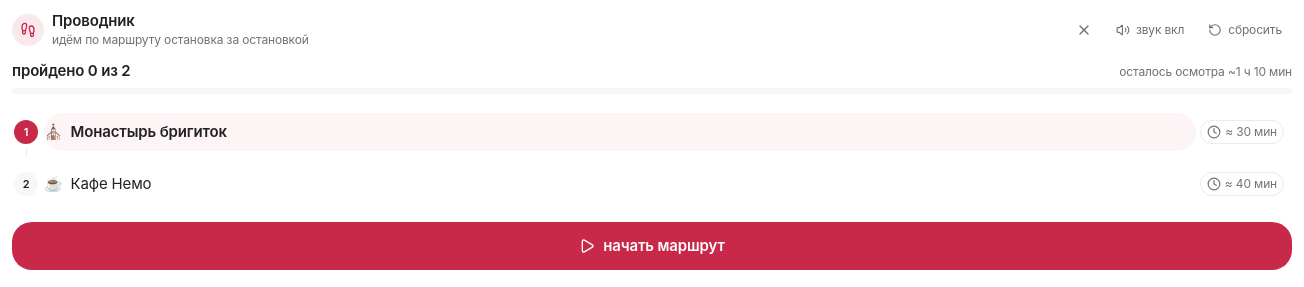
Test case: GuidePanel › keeps manual stop marking available without a GPS status banner
Click the button with test id "guide-stop-1" at {"x": 149, "y": 132}, box [44,113,1196,151]
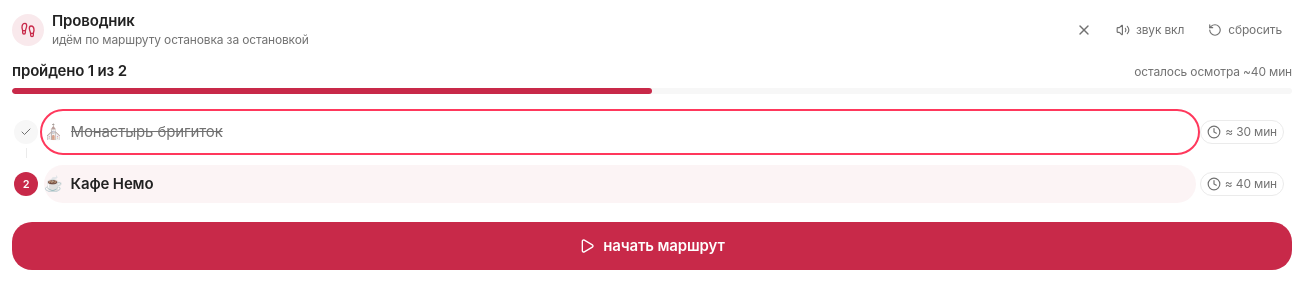
Expected: the text "пройдено 1 из 2" is shown, [12,60,127,82]
